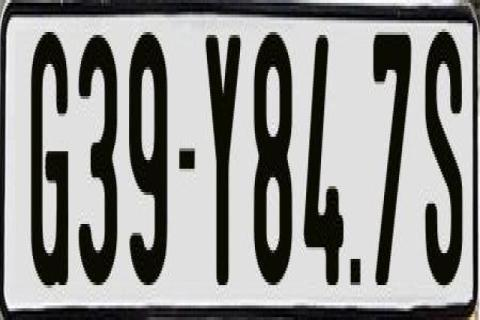0: (373, 32, 417, 296), (129, 29, 172, 299), (304, 29, 350, 279), (78, 29, 117, 294), (251, 26, 290, 291)
G: (29, 29, 68, 297)
S: (426, 26, 465, 294)
Y: (205, 26, 245, 291)
